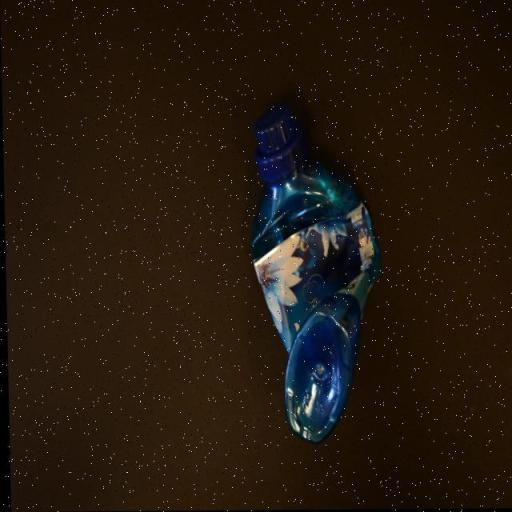plastic: (246, 100, 383, 440)
